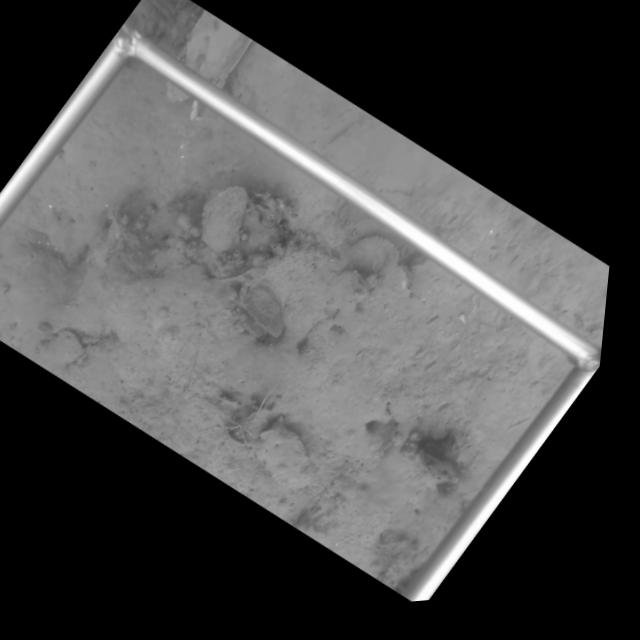Oyster-Closed: (350, 231, 413, 297), (200, 181, 251, 261)
Oyster-Indeterminate: (246, 409, 321, 494), (183, 9, 253, 88), (35, 325, 91, 377)
Oyster-Open: (237, 298, 281, 348)
